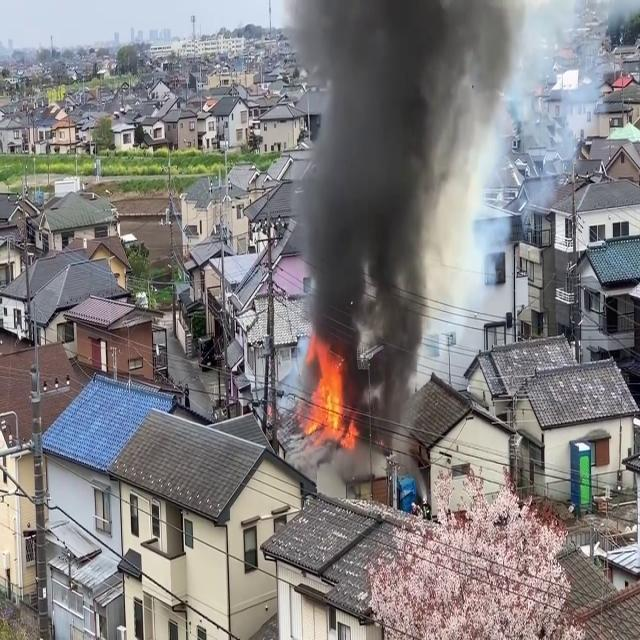Fire: (299, 340, 356, 446)
Smoke: (287, 0, 516, 395)
